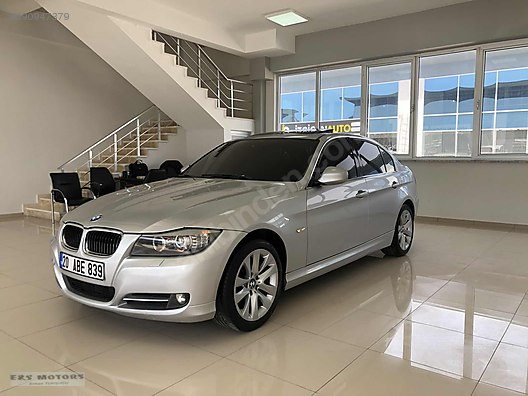bmw: (45, 129, 422, 338)
